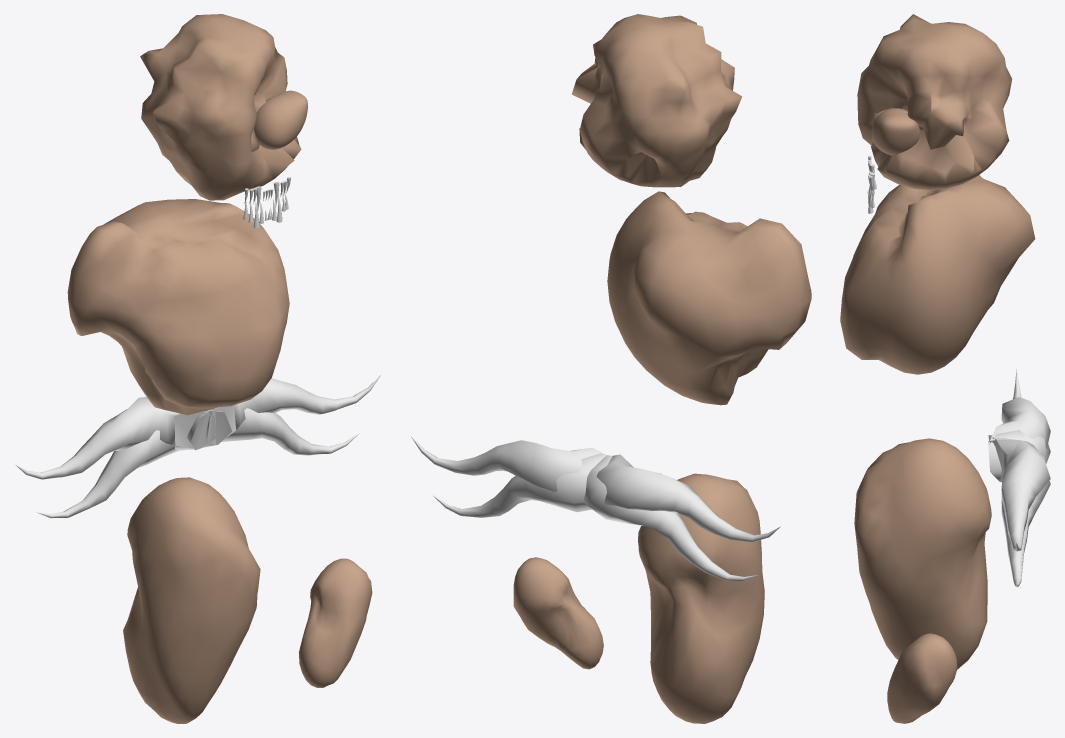
The model's file is VorgonArmor_Low.fbx.
3 renders of one model, left to right at view 1: azimuth 30°, elevation 25°; view 2: azimuth 150°, elevation 25°; view 3: azimuth 270°, elevation 25°, orthographic. The views are drawn at different scales.
Visible parts, largest first — view 1: ChestArmor_Low, ThighArmorR_Low, HeadArmor01_Low, BackVines, ThighArmorL_Low, Eyes, Teeth; view 2: ChestArmor_Low, HeadArmor01_Low, ThighArmorR_Low, BackVines, ThighArmorL_Low; view 3: ChestArmor_Low, ThighArmorR_Low, HeadArmor01_Low, BackVines, ThighArmorL_Low, Eyes, Teeth.
Boxes of the visible parts, <box> form: ChestArmor_Low: <box>67,199,289,415</box>; ThighArmorR_Low: <box>123,477,260,723</box>; HeadArmor01_Low: <box>140,14,301,200</box>; BackVines: <box>15,375,380,518</box>; ThighArmorL_Low: <box>298,558,372,687</box>; Eyes: <box>251,90,307,151</box>; Teeth: <box>243,177,290,228</box>; ChestArmor_Low: <box>607,191,811,405</box>; HeadArmor01_Low: <box>571,14,742,187</box>; ThighArmorR_Low: <box>638,473,764,723</box>; BackVines: <box>411,436,780,580</box>; ThighArmorL_Low: <box>513,557,603,669</box>; ChestArmor_Low: <box>840,175,1035,374</box>; ThighArmorR_Low: <box>854,438,991,669</box>; HeadArmor01_Low: <box>857,14,1012,190</box>; BackVines: <box>988,368,1050,586</box>; ThighArmorL_Low: <box>887,633,957,723</box>; Eyes: <box>871,108,919,155</box>; Teeth: <box>867,155,876,213</box>.
Size of the model in its own units: 108 by 192 by 54.49.
